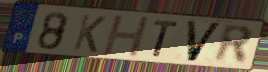8: (37, 10, 70, 51)
H: (100, 15, 152, 58)
K: (71, 13, 108, 55)
R: (212, 23, 255, 66)
T: (151, 18, 181, 59)
V: (184, 19, 225, 63)
